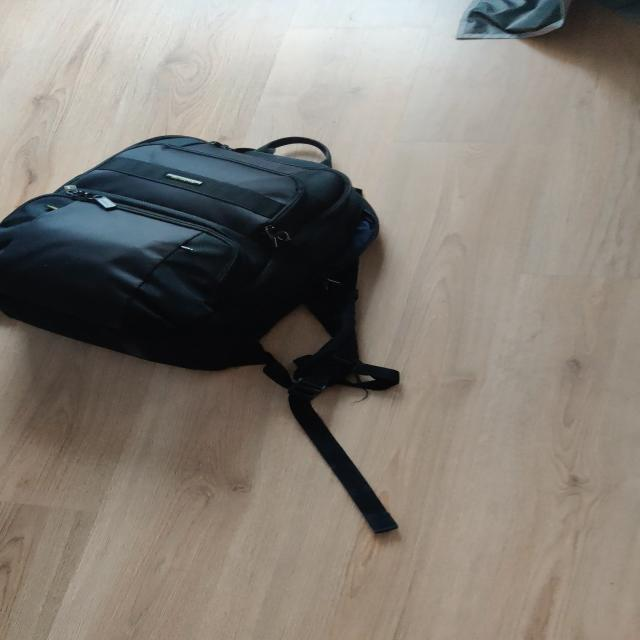backpack: (0, 125, 395, 378)
